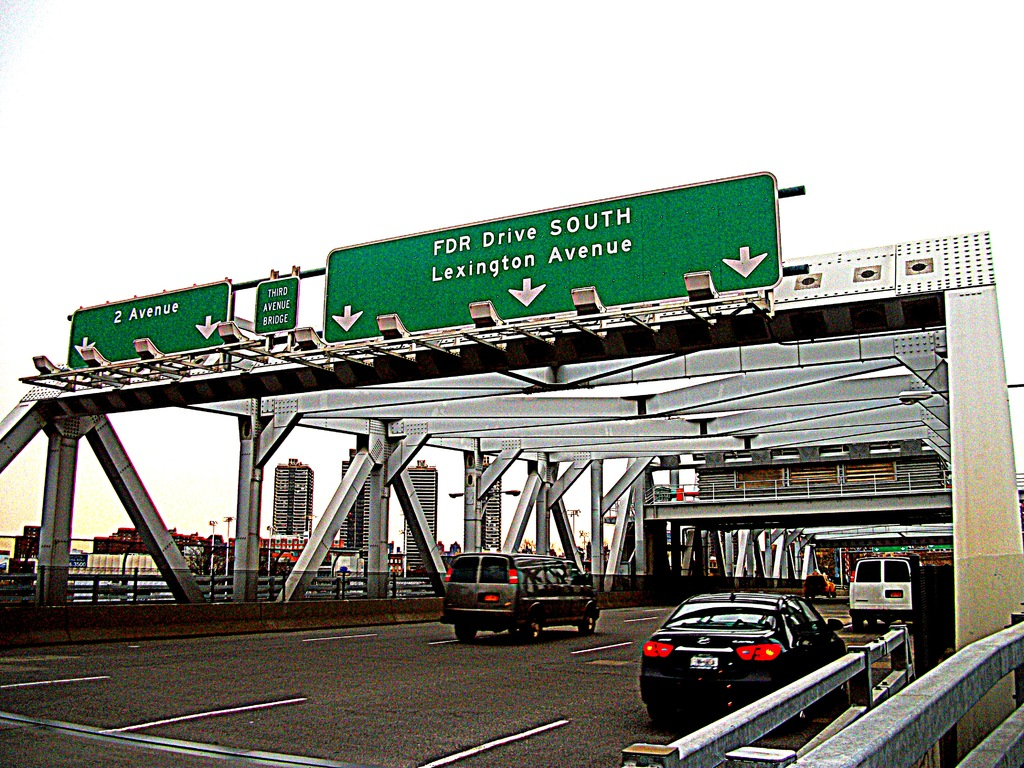Car: (638, 574, 850, 738), (439, 550, 600, 641), (848, 557, 921, 631), (801, 568, 837, 600)
